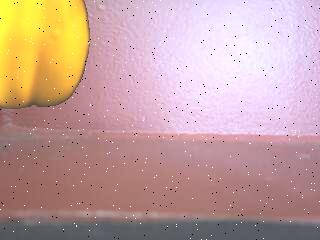Capsicum: (0, 0, 93, 113)
